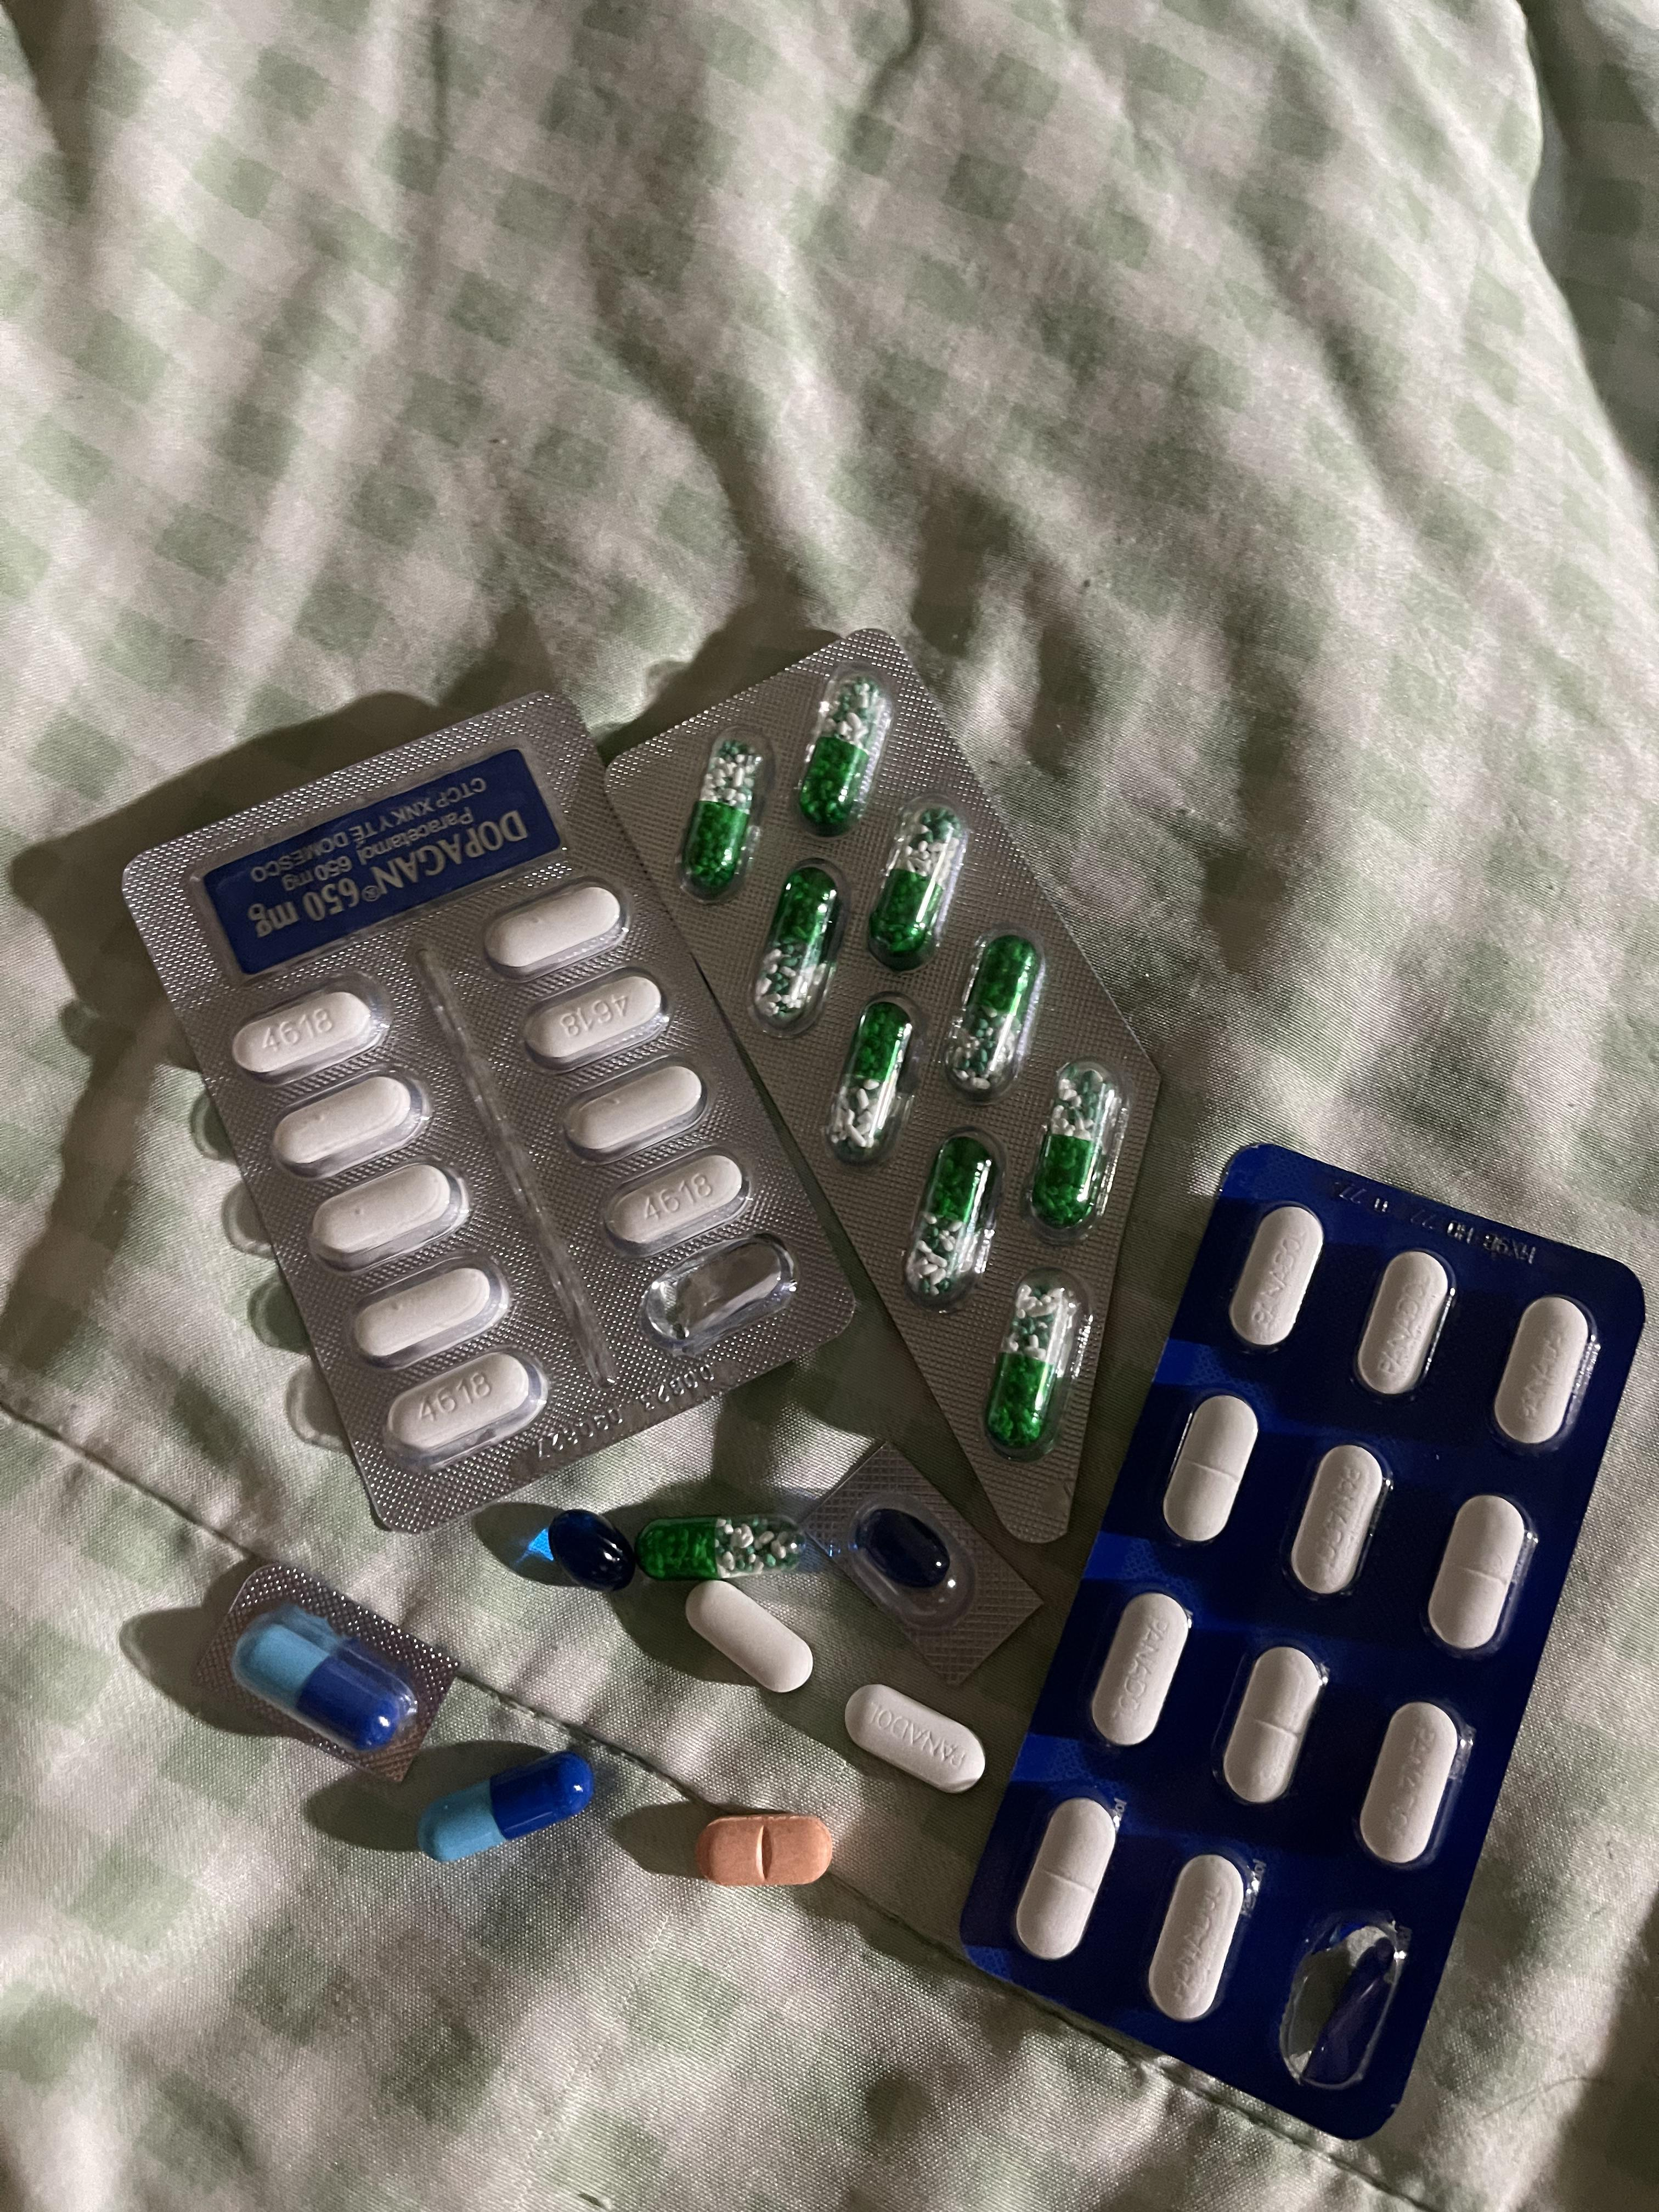Lincomyxin_500mg: (545, 1508, 638, 1592), (861, 1508, 953, 1588)
Loratadine_10mg: (695, 1813, 831, 1888)
Paracetamol_350mg: (1359, 1702, 1464, 1869), (1427, 1493, 1532, 1655), (1220, 1642, 1324, 1804), (1016, 1794, 1112, 1968), (1150, 1851, 1244, 2020), (843, 1681, 988, 1791), (1493, 1296, 1598, 1447), (1290, 1442, 1391, 1597), (1087, 1592, 1185, 1749), (1162, 1390, 1262, 1541), (1356, 1252, 1455, 1397), (1229, 1211, 1326, 1348)
Paracetamol_500mg: (385, 1348, 547, 1468), (308, 1155, 464, 1268), (352, 1259, 509, 1369), (272, 1069, 425, 1179), (234, 982, 387, 1085), (599, 1144, 746, 1251), (688, 1580, 816, 1693), (563, 1061, 708, 1160), (523, 970, 664, 1069), (484, 878, 626, 977)
Paracetamol_650mg: (1025, 1057, 1112, 1224), (986, 1285, 1073, 1451), (950, 935, 1039, 1097), (908, 1136, 995, 1299), (870, 812, 960, 968), (683, 733, 767, 894), (798, 674, 884, 829), (831, 1003, 913, 1160), (636, 1514, 809, 1580), (762, 878, 838, 1010)
pill: (235, 1611, 413, 1750), (416, 1750, 596, 1864)
